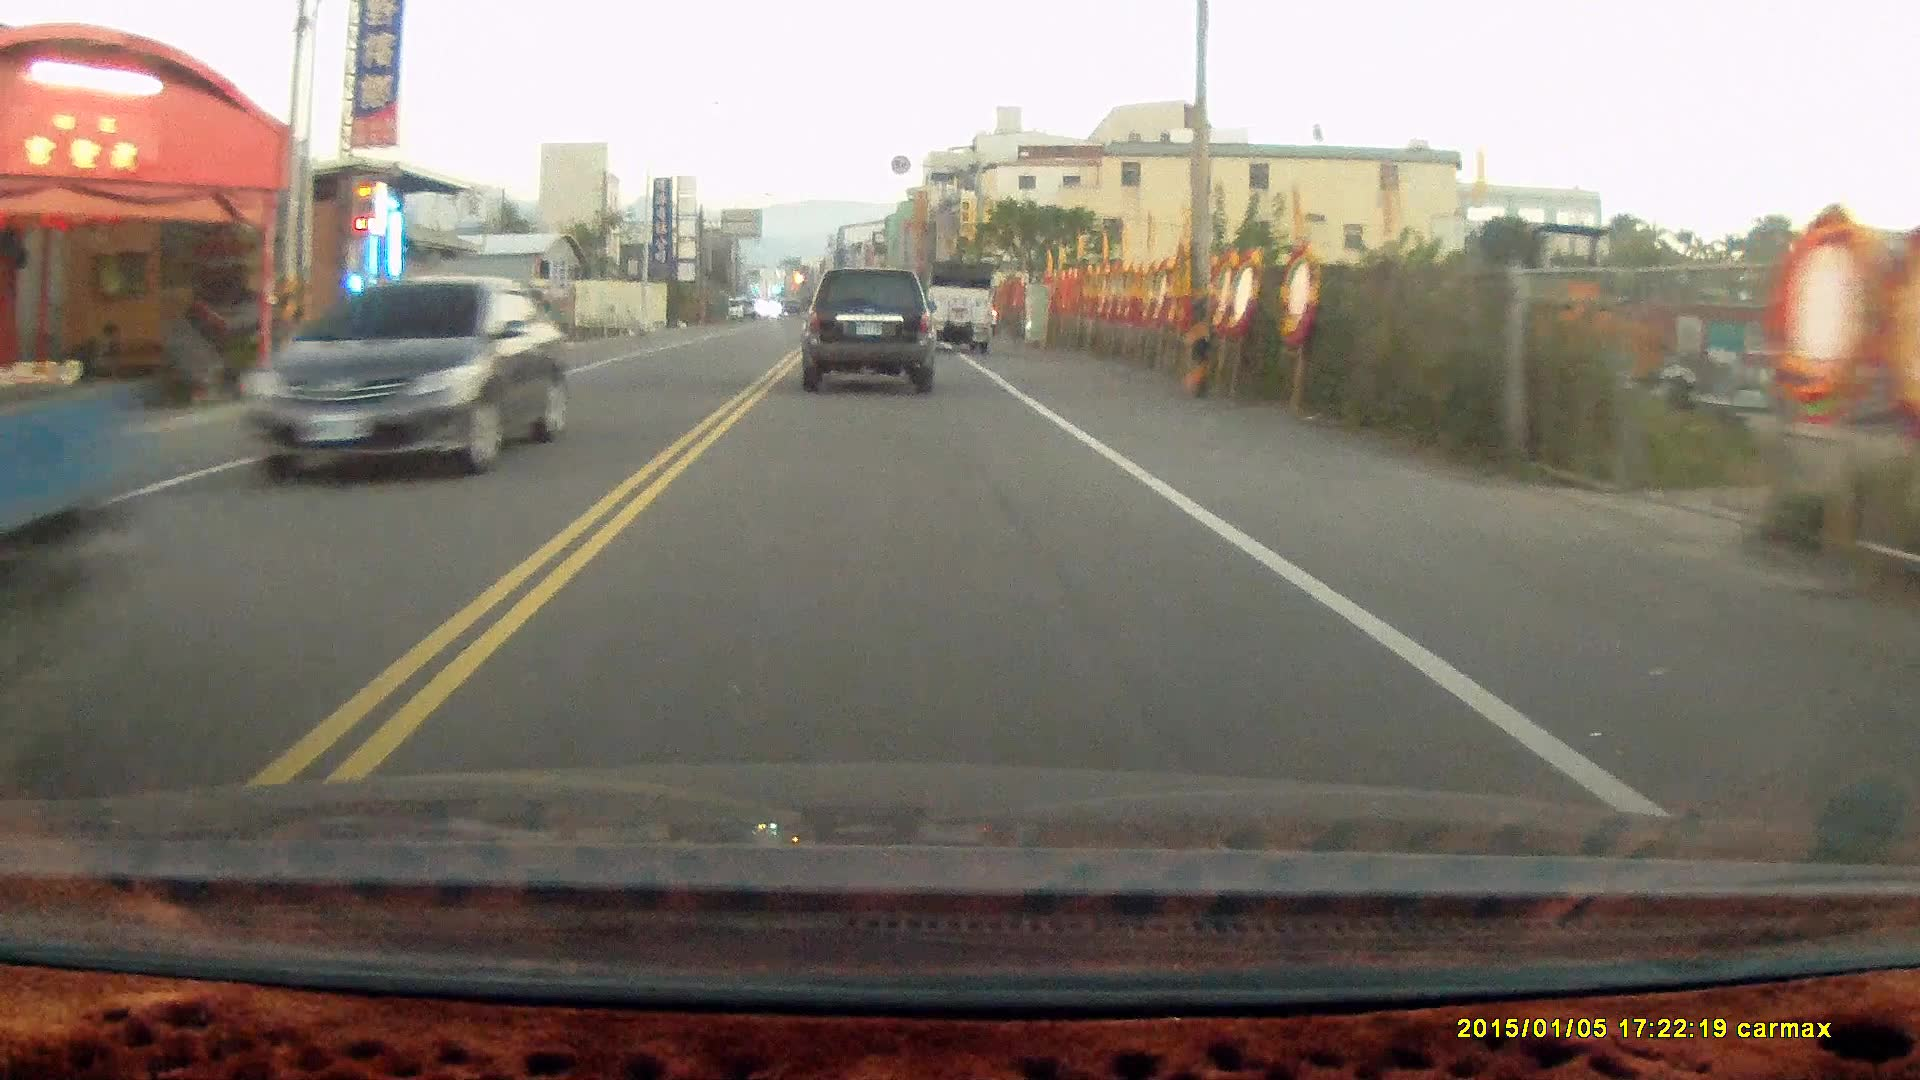vehicle: (243, 278, 570, 489), (802, 268, 938, 398), (924, 258, 1000, 353)
